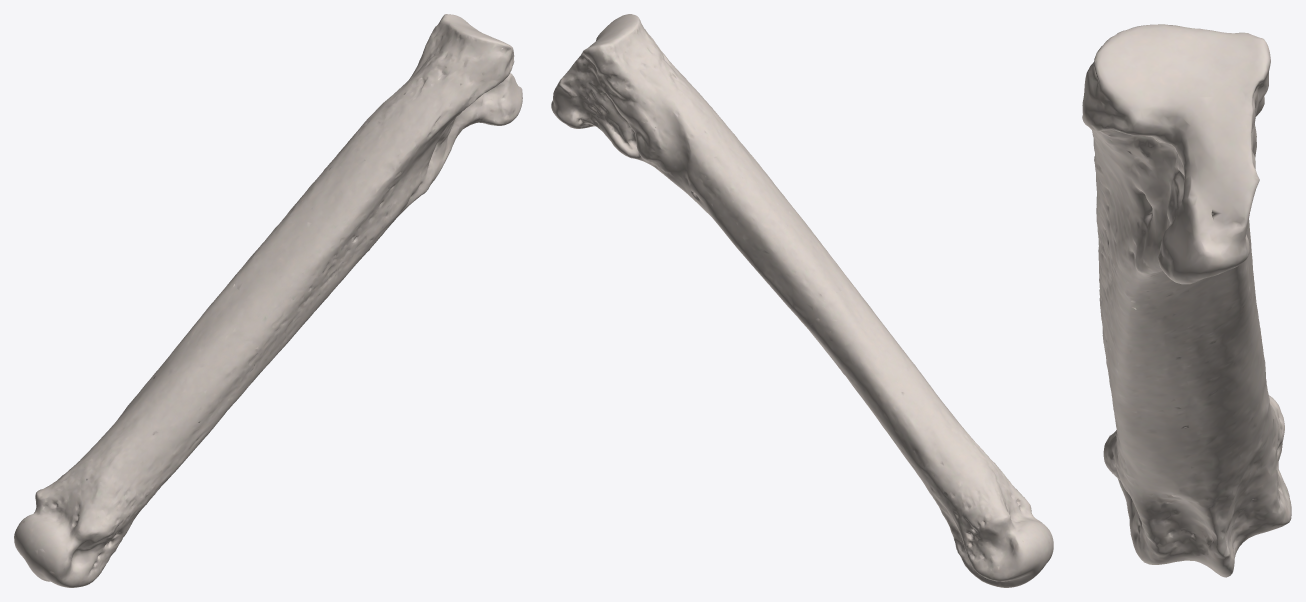
The picture shows the model from 3 angles, left to right: view 1: azimuth 30°, elevation 25°; view 2: azimuth 150°, elevation 25°; view 3: azimuth 270°, elevation 25°; orthographic projection. The views are drawn at different scales.
Visible parts, largest first — view 1: MT_Hund.001; view 2: MT_Hund.001; view 3: MT_Hund.001.
Boxes of the visible parts, x1,y1,x2,y2 form: MT_Hund.001: (14,14,522,587); MT_Hund.001: (551,14,1053,587); MT_Hund.001: (1082,24,1291,577).
Bounding box in the file's own units: 6335 × 5652 × 1173.
Materials: 1 (1 with a texture image).
